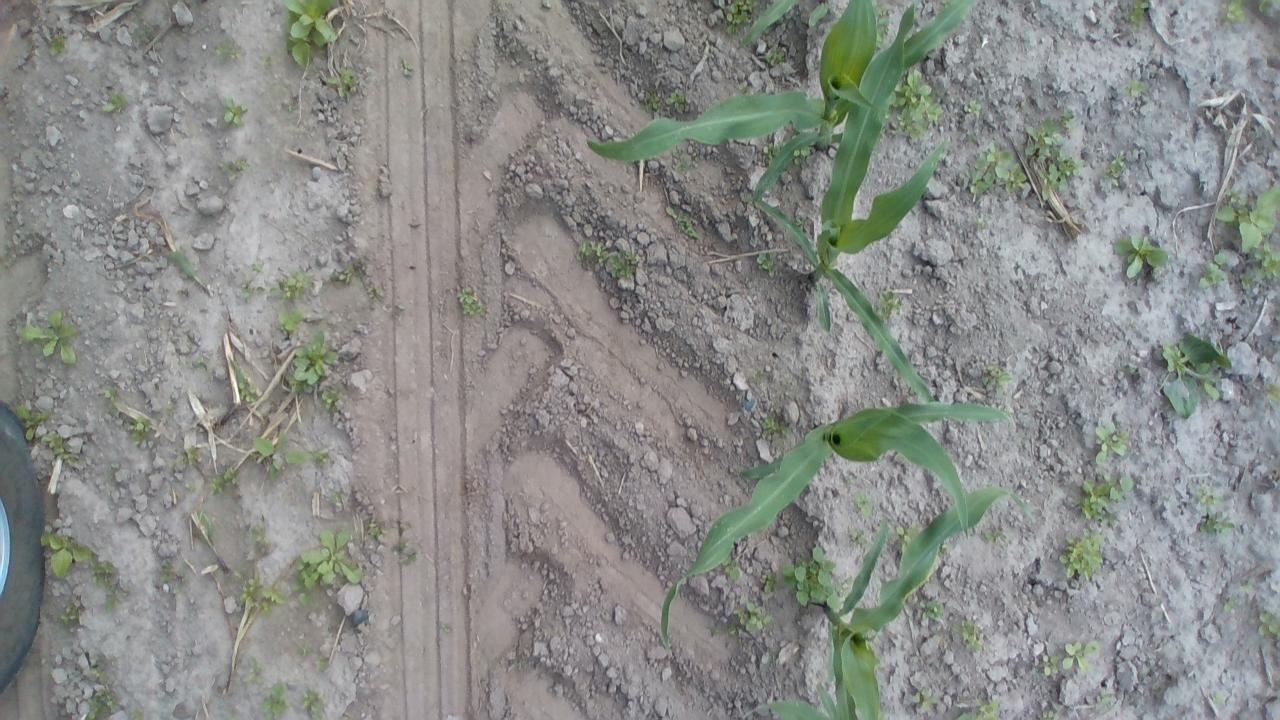Maize: (659, 401, 1017, 648), (585, 0, 977, 204), (752, 0, 948, 403), (820, 487, 1040, 720), (736, 0, 832, 49), (742, 684, 841, 720)
Weeds: (1160, 334, 1232, 421), (291, 528, 364, 608), (881, 65, 946, 142), (780, 546, 853, 611), (1215, 180, 1280, 252), (280, 0, 339, 71), (16, 310, 80, 367), (966, 139, 1026, 196), (285, 331, 338, 393), (1072, 475, 1134, 527), (253, 428, 309, 480), (1112, 234, 1168, 280), (40, 533, 92, 580), (1060, 529, 1104, 581), (1038, 153, 1086, 200), (90, 557, 124, 614), (1022, 116, 1064, 162), (40, 430, 86, 470), (270, 268, 315, 304), (1093, 422, 1129, 466), (732, 600, 774, 634), (724, 0, 760, 37), (664, 205, 701, 240), (14, 403, 48, 441), (259, 680, 290, 720), (952, 694, 999, 720), (1251, 241, 1280, 280), (762, 413, 794, 447), (1062, 642, 1098, 672), (981, 363, 1012, 397), (84, 689, 118, 720), (209, 463, 240, 496), (326, 64, 356, 97), (1199, 255, 1228, 289), (233, 364, 257, 404), (606, 250, 640, 278), (874, 288, 900, 324), (954, 619, 982, 652), (1100, 151, 1125, 187), (1199, 511, 1235, 536), (220, 96, 248, 128), (457, 286, 486, 316), (125, 414, 152, 446), (260, 587, 288, 617), (872, 0, 889, 49), (893, 522, 919, 554), (236, 572, 262, 604), (574, 239, 609, 262), (276, 308, 306, 334), (1218, 0, 1248, 26), (300, 690, 326, 720), (672, 146, 701, 172), (913, 684, 941, 710), (1195, 486, 1223, 512), (220, 158, 250, 182), (1126, 0, 1148, 32), (392, 538, 417, 566), (762, 140, 788, 166), (242, 657, 264, 687), (246, 520, 271, 546), (102, 90, 129, 114), (1257, 609, 1280, 637), (60, 600, 82, 628), (918, 598, 944, 621), (720, 554, 741, 582), (757, 250, 778, 278), (319, 390, 342, 415), (763, 44, 789, 66), (177, 444, 200, 468), (786, 144, 811, 166), (852, 491, 872, 518), (1124, 77, 1148, 99), (238, 280, 264, 300), (194, 509, 213, 536), (214, 40, 236, 62), (666, 89, 686, 113), (759, 571, 780, 593), (640, 90, 660, 113), (1040, 654, 1060, 677), (1060, 108, 1078, 133), (330, 266, 352, 286), (848, 528, 869, 548), (711, 624, 739, 639), (158, 557, 172, 585), (1264, 380, 1280, 403), (49, 37, 68, 56), (367, 284, 385, 304), (100, 382, 118, 402), (962, 99, 984, 115), (308, 450, 328, 467), (982, 530, 1006, 544), (366, 517, 382, 538), (1238, 272, 1256, 290), (90, 660, 106, 680), (752, 367, 769, 385), (135, 28, 156, 42), (314, 654, 329, 673), (1094, 691, 1112, 705), (794, 214, 808, 232), (401, 58, 414, 76), (128, 706, 144, 720), (1258, 0, 1276, 12), (329, 490, 344, 503), (297, 645, 313, 657), (936, 544, 950, 557), (194, 356, 208, 368), (1040, 709, 1055, 720), (252, 261, 264, 274), (976, 216, 988, 229), (232, 569, 246, 580), (738, 84, 753, 94), (1224, 598, 1234, 612), (184, 482, 198, 492), (164, 404, 176, 415), (939, 0, 953, 9), (1210, 692, 1222, 702), (1238, 583, 1250, 592), (284, 103, 296, 112), (262, 56, 272, 66), (108, 405, 119, 414), (768, 652, 778, 660), (441, 622, 450, 630)
